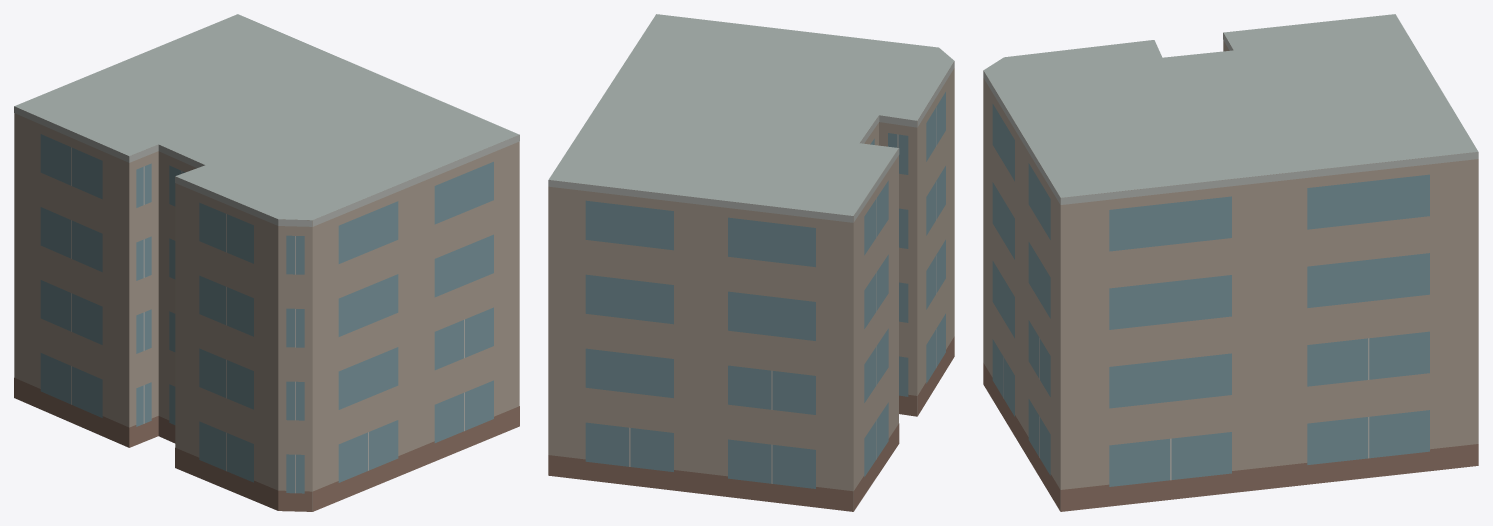
File: survey-upis-32696038.glb
The picture shows the model from 3 angles, left to right: view 1: azimuth 30°, elevation 25°; view 2: azimuth 150°, elevation 25°; view 3: azimuth 270°, elevation 25°; orthographic projection. The views are drawn at different scales.
Visible parts, largest first — view 1: survey-upis-32696038.tmp; view 2: survey-upis-32696038.tmp; view 3: survey-upis-32696038.tmp.
Boxes of the visible parts, left/top/right/bottom form: survey-upis-32696038.tmp: left=14, top=14, right=519, bottom=511; survey-upis-32696038.tmp: left=548, top=14, right=954, bottom=511; survey-upis-32696038.tmp: left=983, top=14, right=1478, bottom=511.
Bounding box in the file's own units: 13.32 × 10.6 × 15.16.
